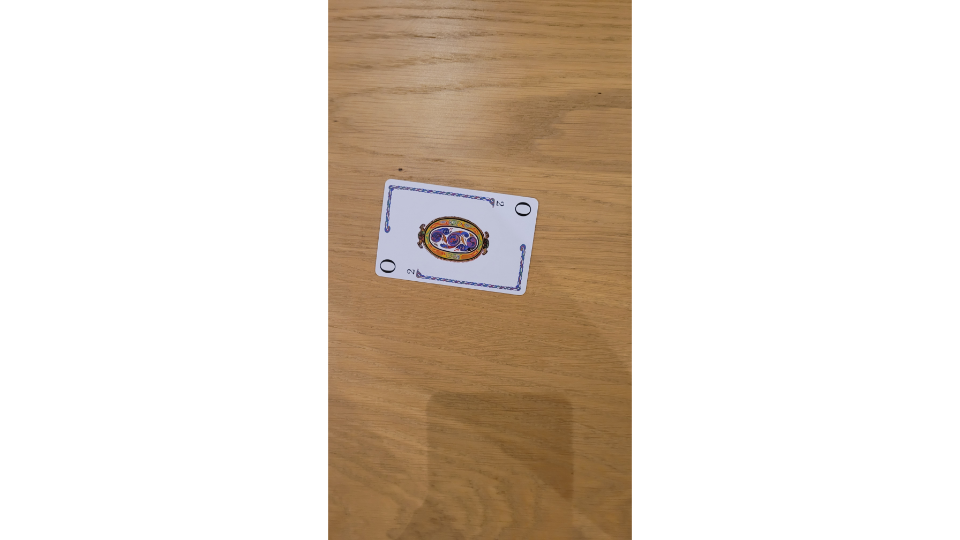O: (373, 175, 544, 299)
